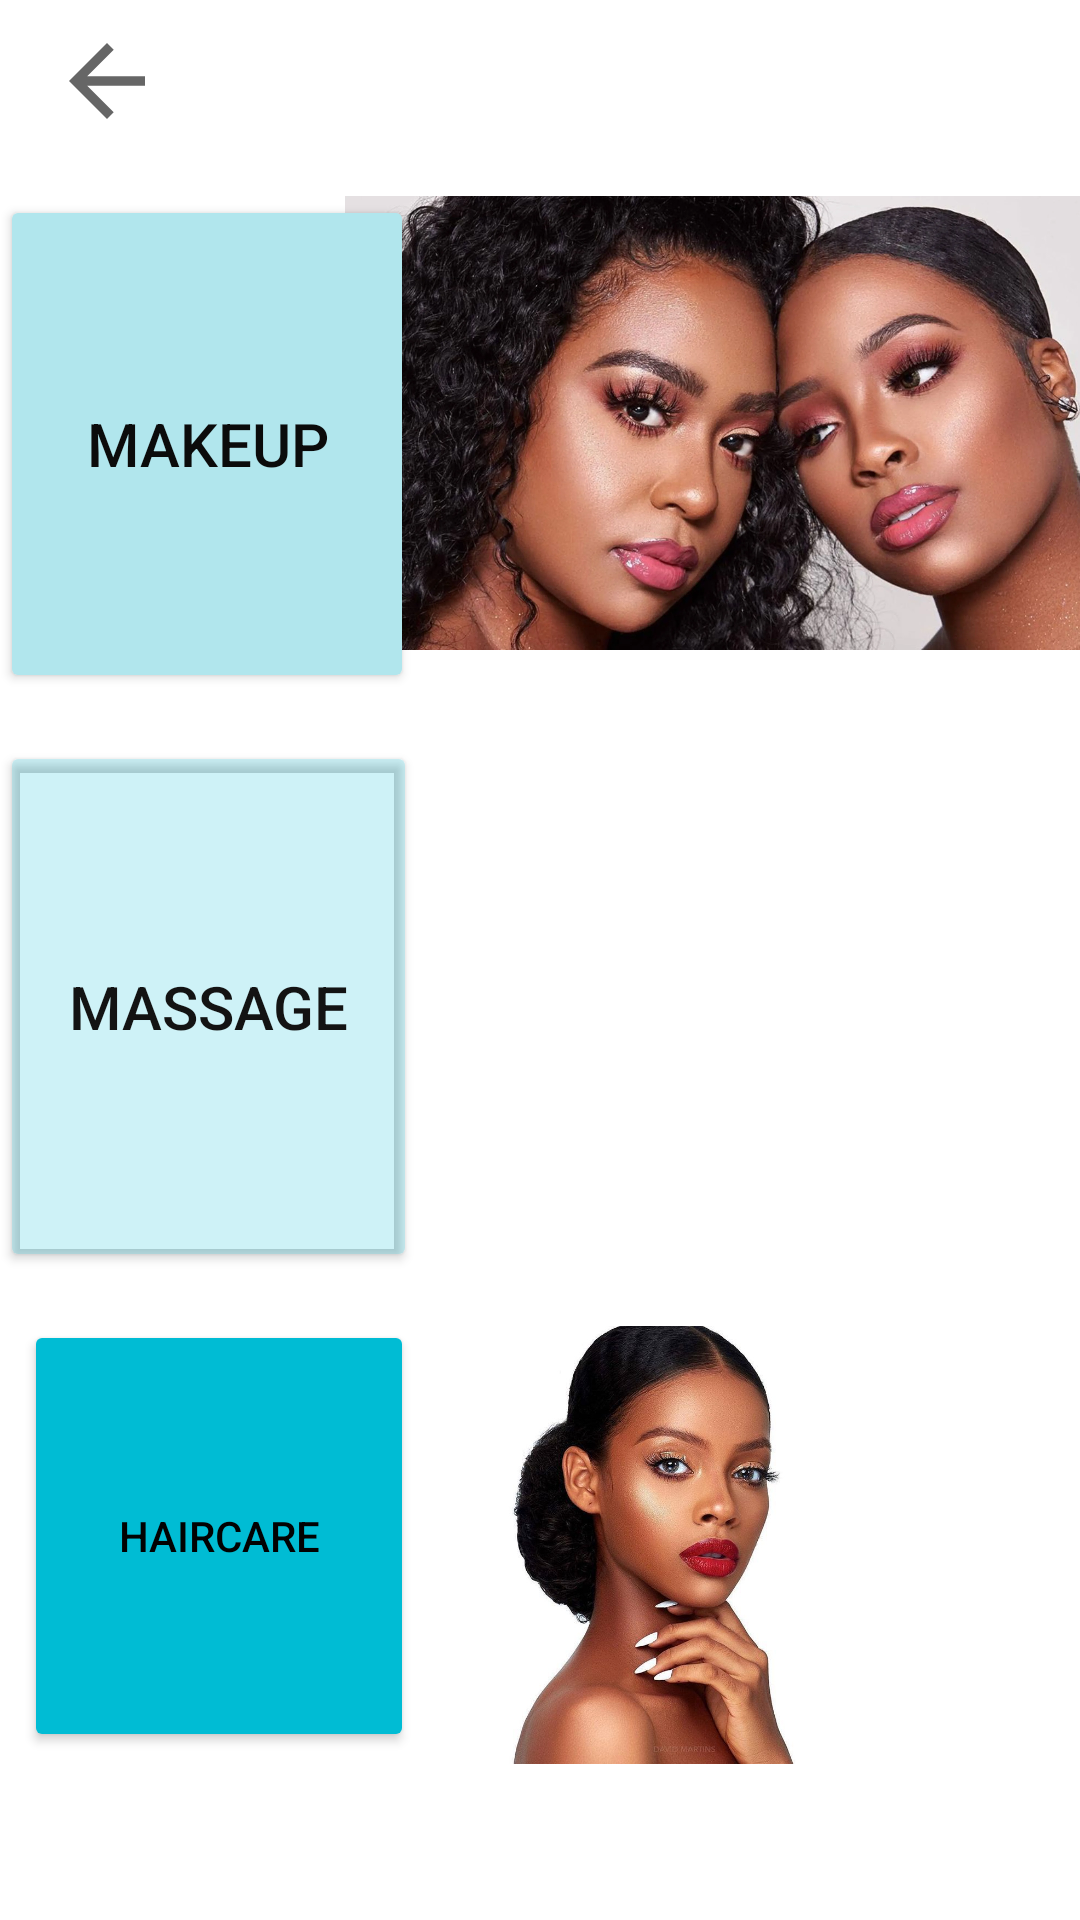

Named icons in this screenshot (1080 x 1920) and their bounding boxes, [left=x1, top=y1, right=x2, bottom=y2]:
arrow back: [left=69, top=43, right=145, bottom=119]
